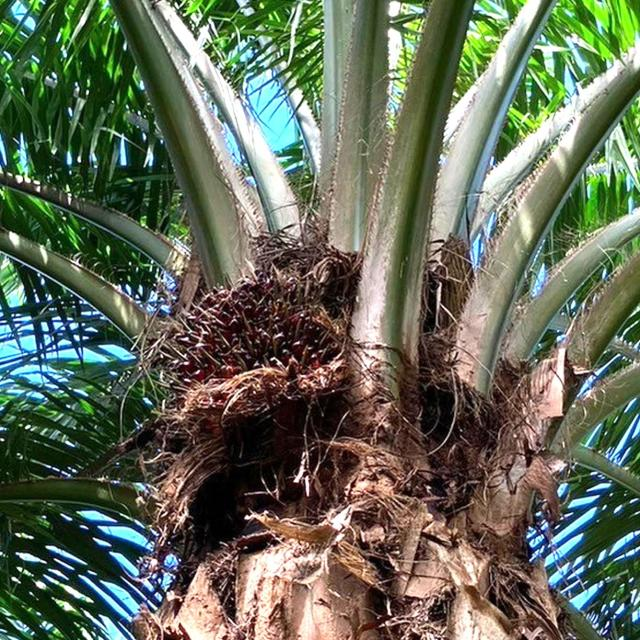ripe: (139, 260, 355, 451)
